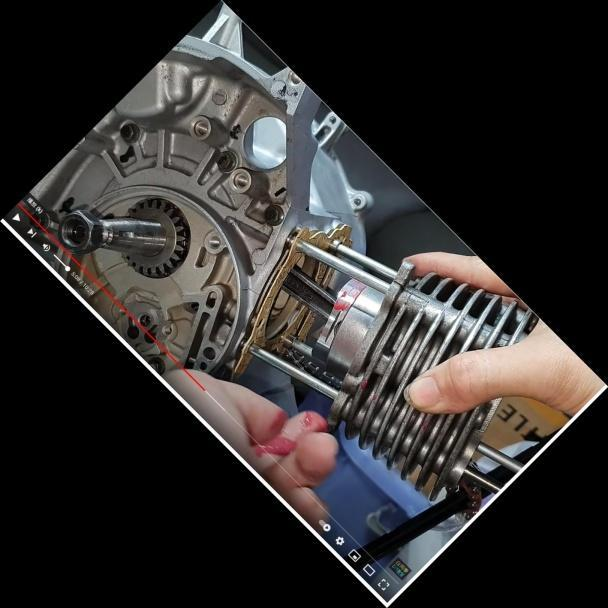hole: (184, 112, 215, 143), (226, 166, 253, 193), (202, 229, 225, 252), (154, 318, 177, 341)
